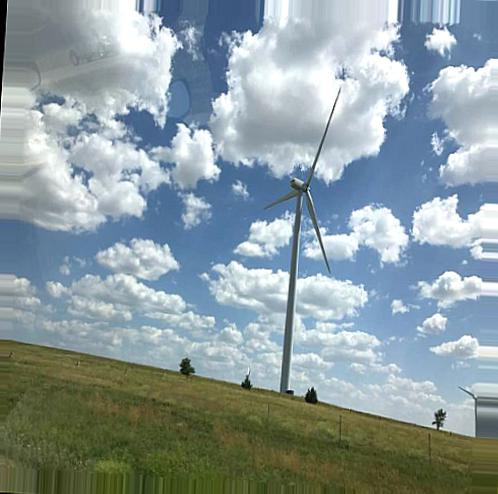wind turbine: (259, 86, 344, 396)
